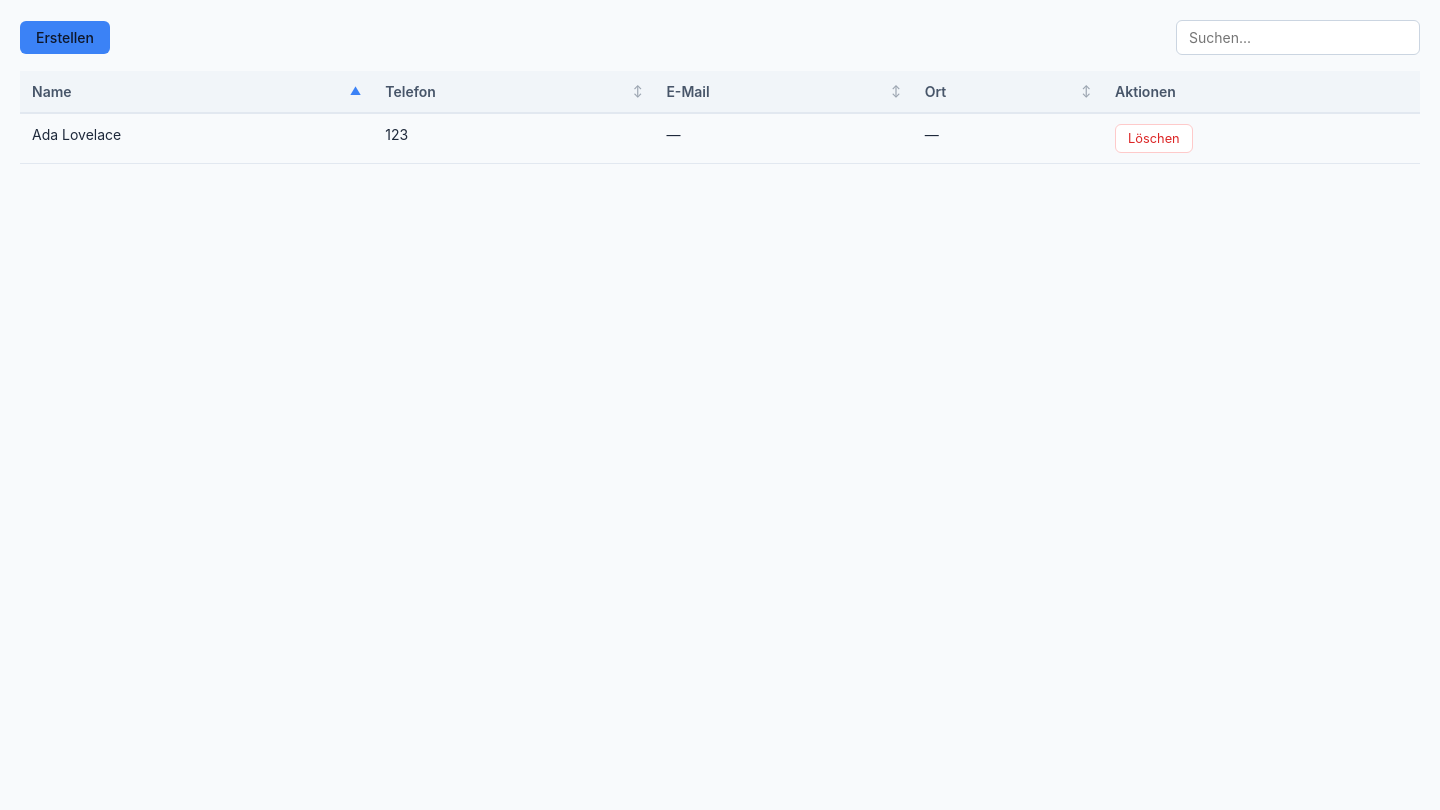
Scenario: CustomerManagement — name autocomplete › clicking a match closes create and opens edit for that customer
This screenshot has width=1440, height=810.
Click the button with test id "customer-create-button". click: (65, 38)
box: 20,21 -> 110,54
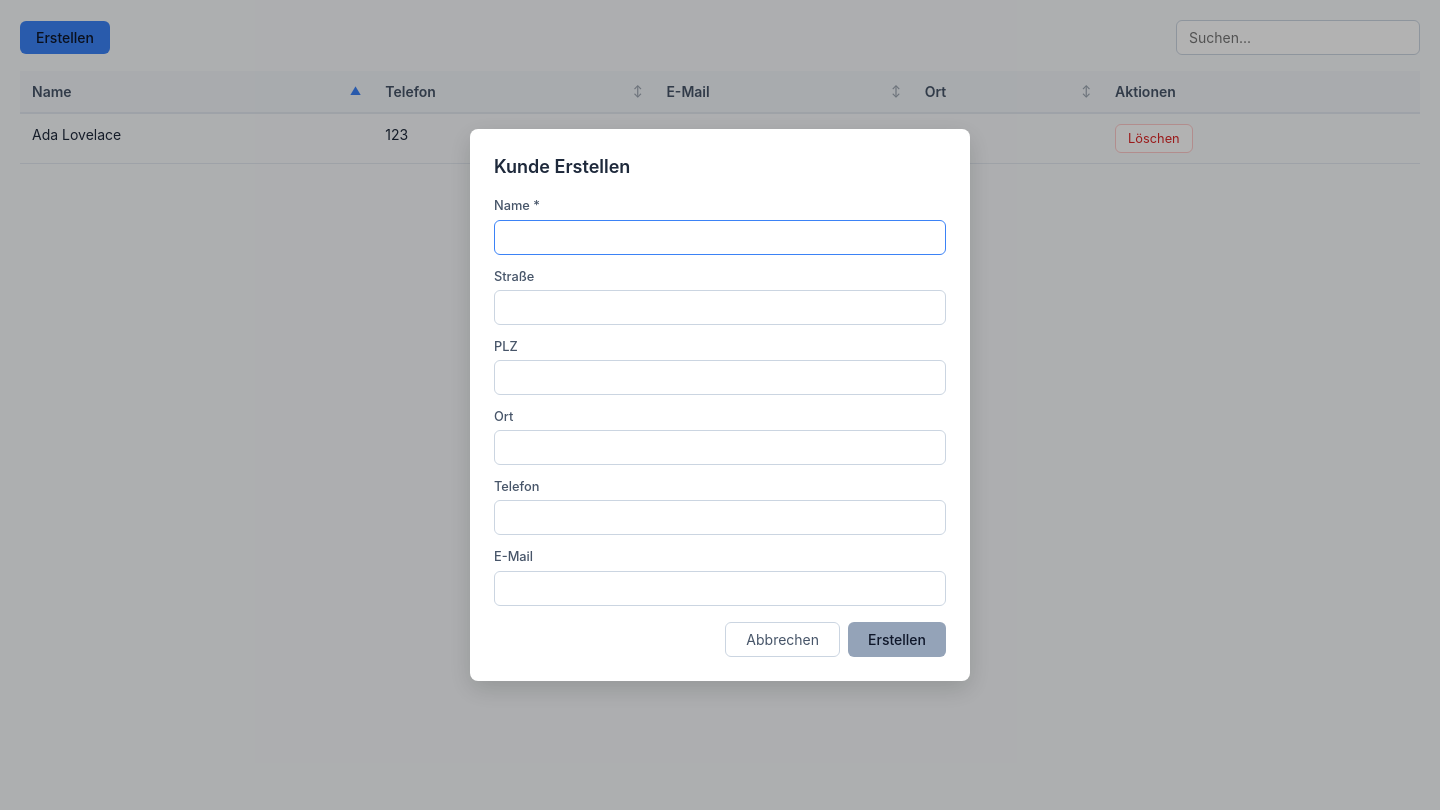
Type "Ada" into the field with test id "customer-name-input". click: (720, 237)
box: 494,220 -> 946,255
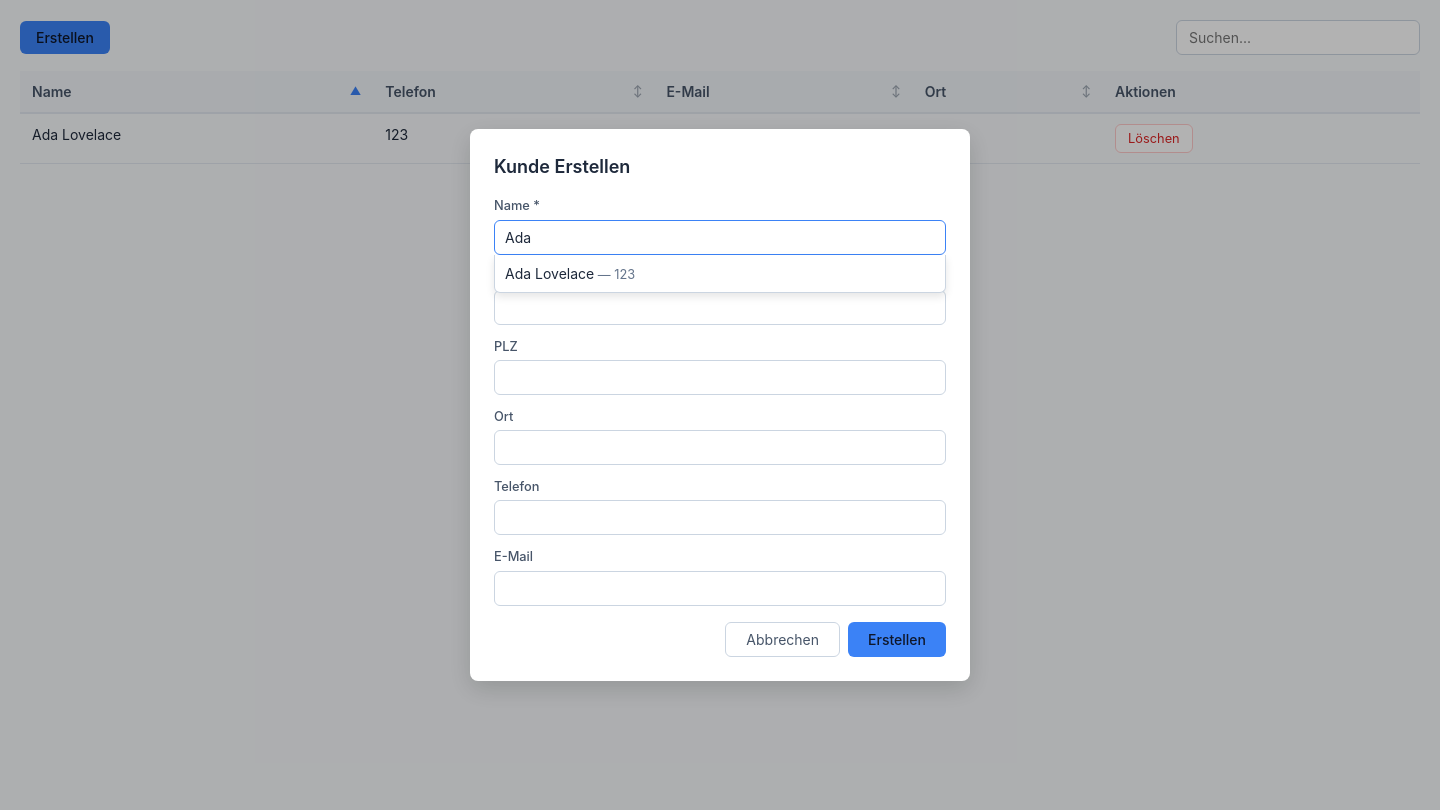
Click the element with test id "customer-match-c-1". click: (570, 273)
box: 505,265 -> 635,282
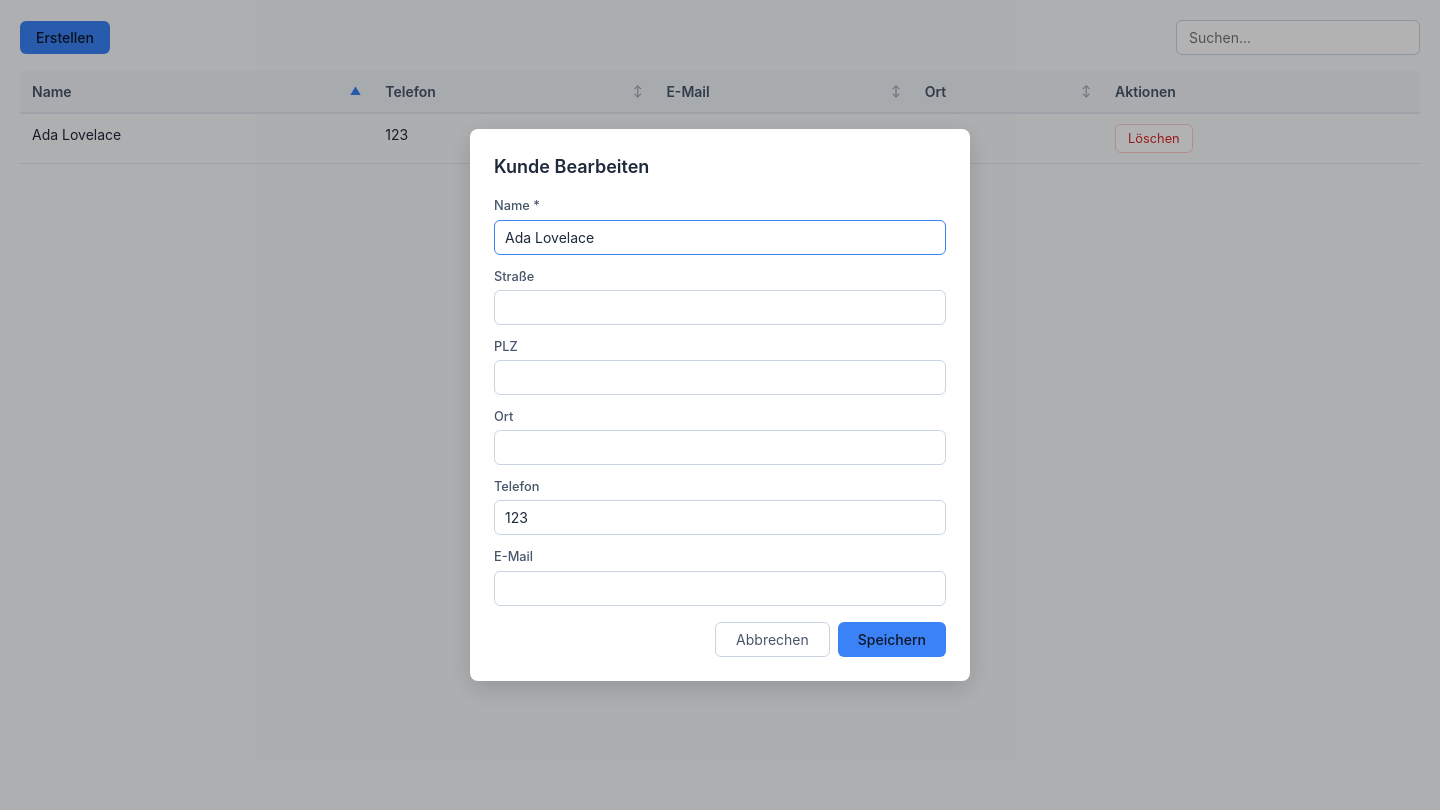
Expected: the button with test id "customer-submit" is gone
Expected: the button with test id "customer-save" is shown, 838,622 -> 946,657
Expected: the field with test id "customer-name-input" holds "Ada Lovelace", 494,220 -> 946,255
